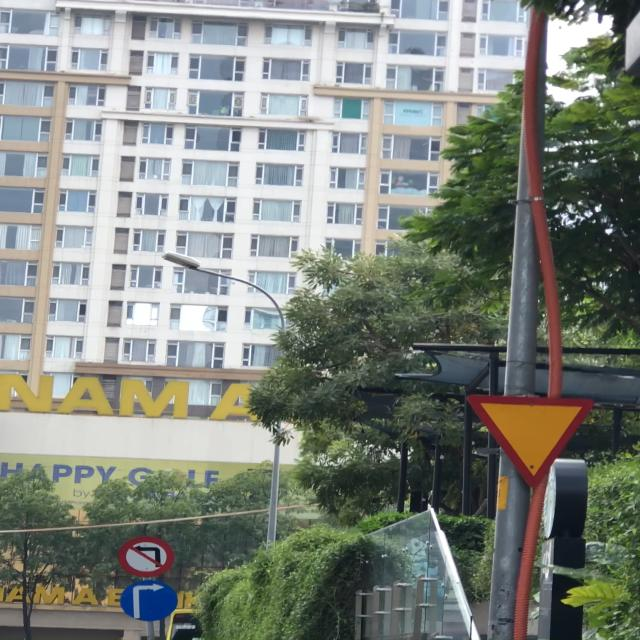Bien bao cam re trai: (114, 534, 178, 578)
Bien bao giao nhau voi duong uu tien: (457, 388, 599, 489)
Bien bao huong di phai theo: (116, 577, 183, 624)
